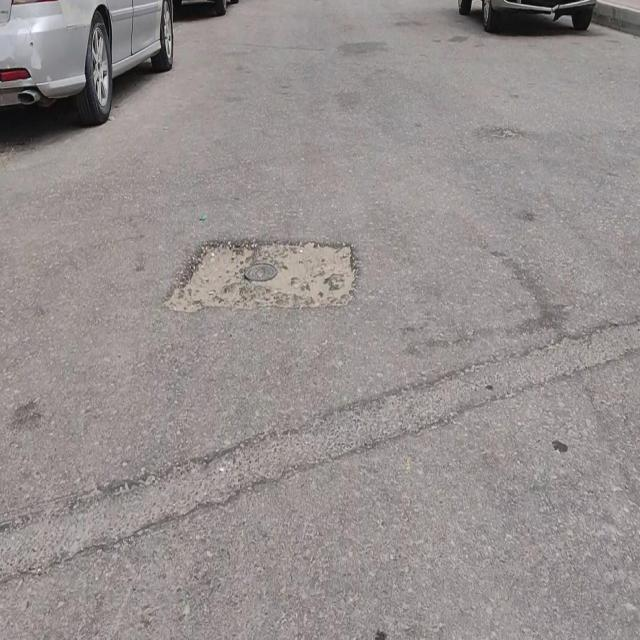Potholes: (176, 237, 357, 307)
